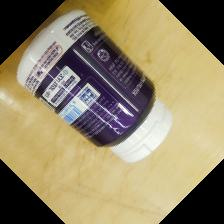Xylitol_BTS: (14, 9, 174, 166)
